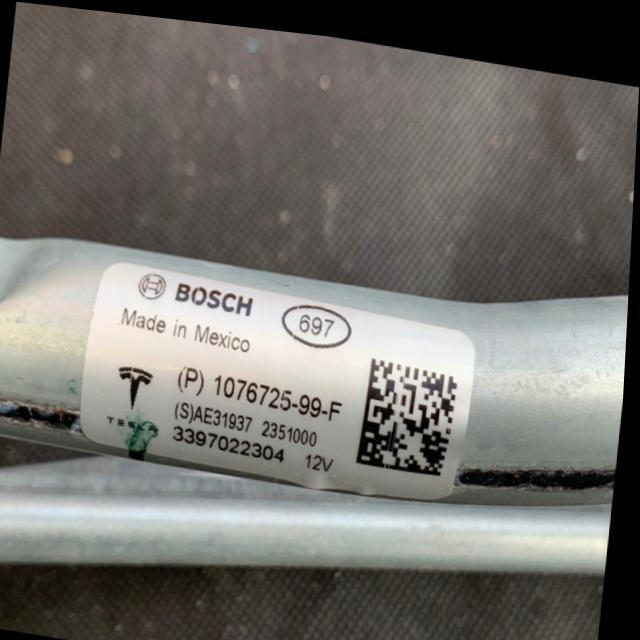datamatrix: (361, 348, 463, 470)
